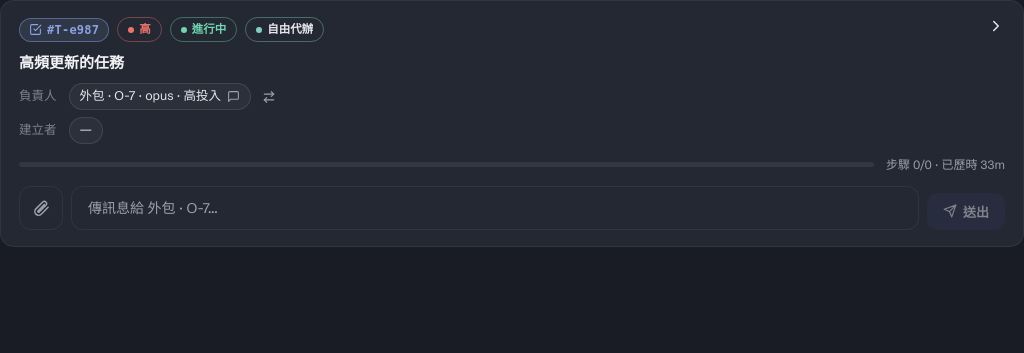
Test: TaskCard transitional copy (T-71e8 · B) › assigned outsource + zero leaves → 「等待 <codename> 建立 Steps」
Click the button with test id "task-card" at (512, 232), box [0,0,1023,247]
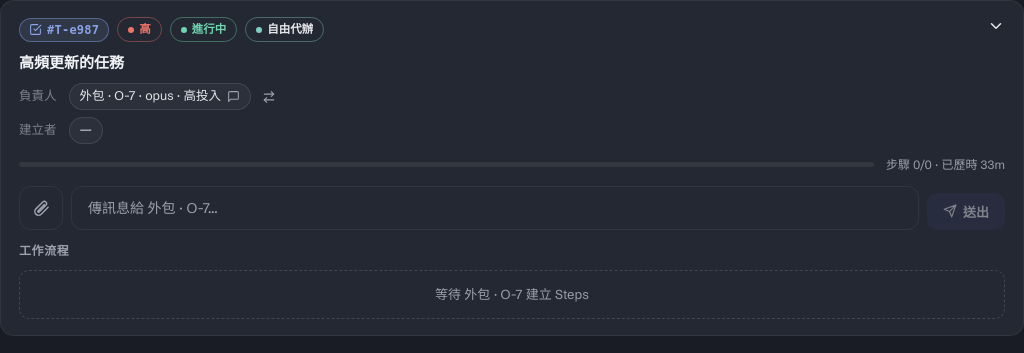
Result: the text with test id "task-transition" reads "等待 外包 · O-7 建立 Steps" at [435,286,589,302]
